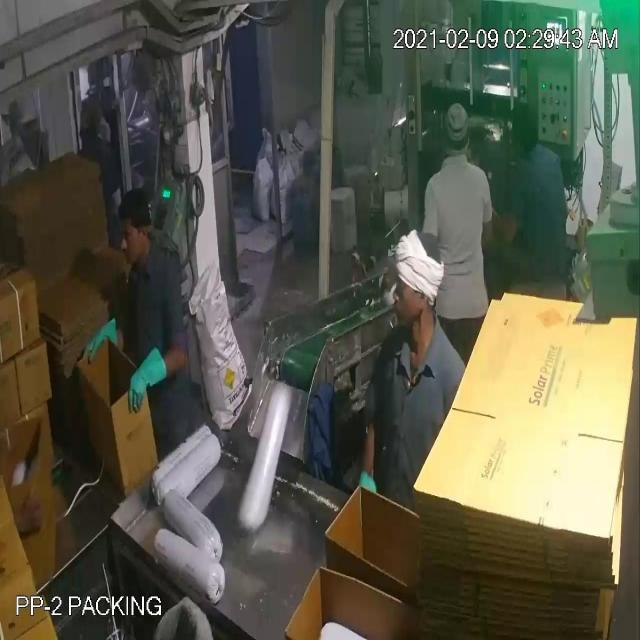Gloves: (46, 62, 500, 375)
